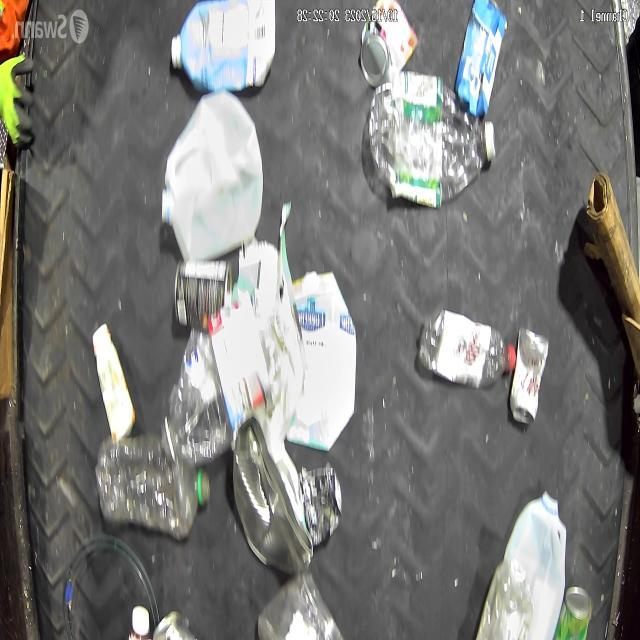can: (358, 0, 418, 88), (509, 326, 549, 428), (174, 259, 234, 325), (299, 465, 342, 545), (554, 586, 592, 640)
milk_jug: (160, 92, 264, 264), (502, 488, 566, 640)
non_white_jug: (170, 0, 276, 93)
plastic_bottle: (368, 73, 496, 208), (160, 328, 282, 462), (95, 435, 211, 539), (417, 307, 517, 386)
